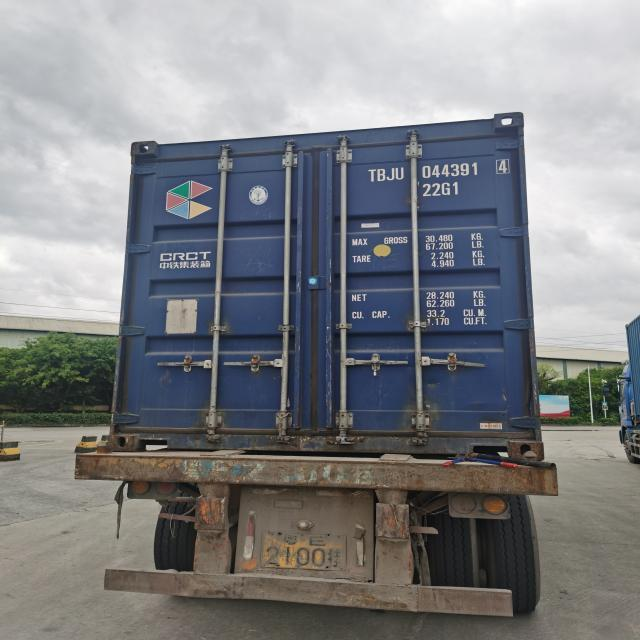ISO: (424, 181, 461, 198)
container_number: (370, 163, 500, 180)
